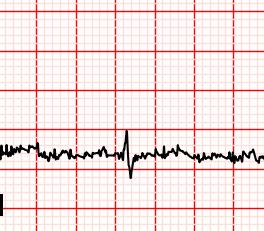Poor R Progression: (119, 128, 132, 162)
ST Depression: (117, 149, 141, 183)
